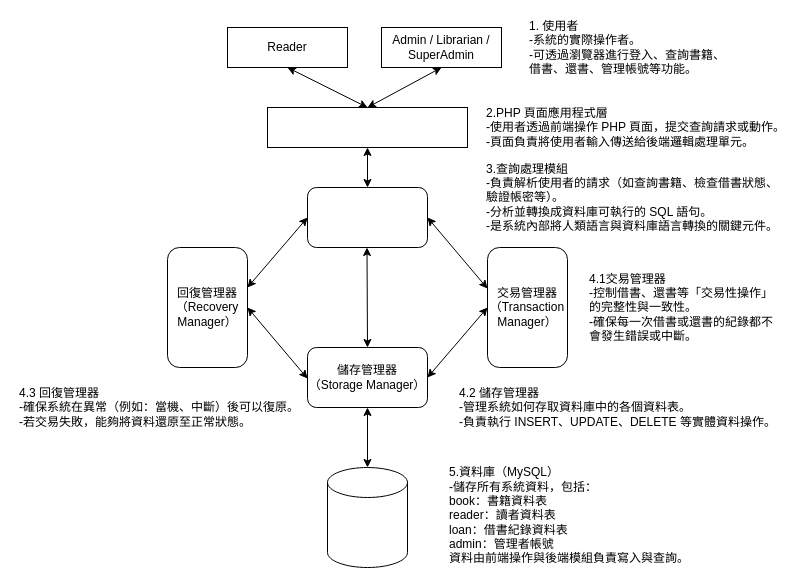
Image size: 811x585. Some labels were removed from this diagram. Here are the shapes that lost their labels. From the top down, the centre of each, then its label:
At pixel 367 127: "PHP頁面應用程式層 (login.php , search_book.php 等)".
At pixel 367 217: "查詢處理模組 （Query Processor）".
At pixel 367 517: "資料庫(MySQL)".
